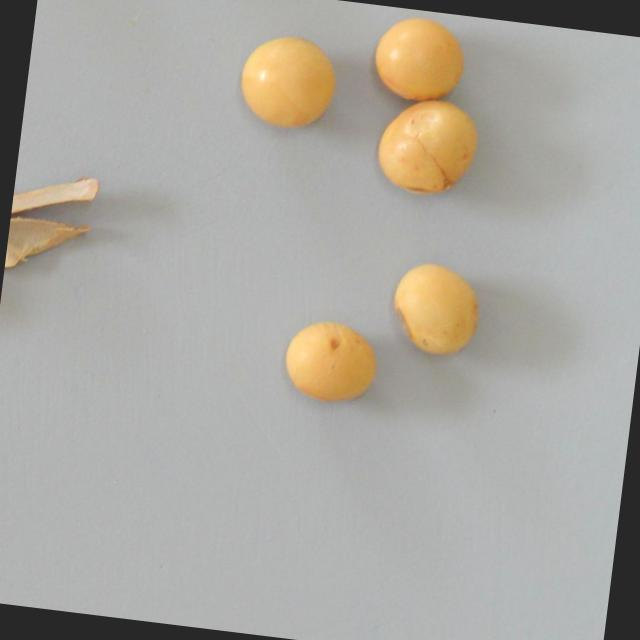cuerpos_extranos: (3, 166, 102, 285), (279, 306, 389, 411), (384, 256, 494, 361), (362, 5, 472, 110), (234, 30, 344, 135), (374, 93, 483, 198)
